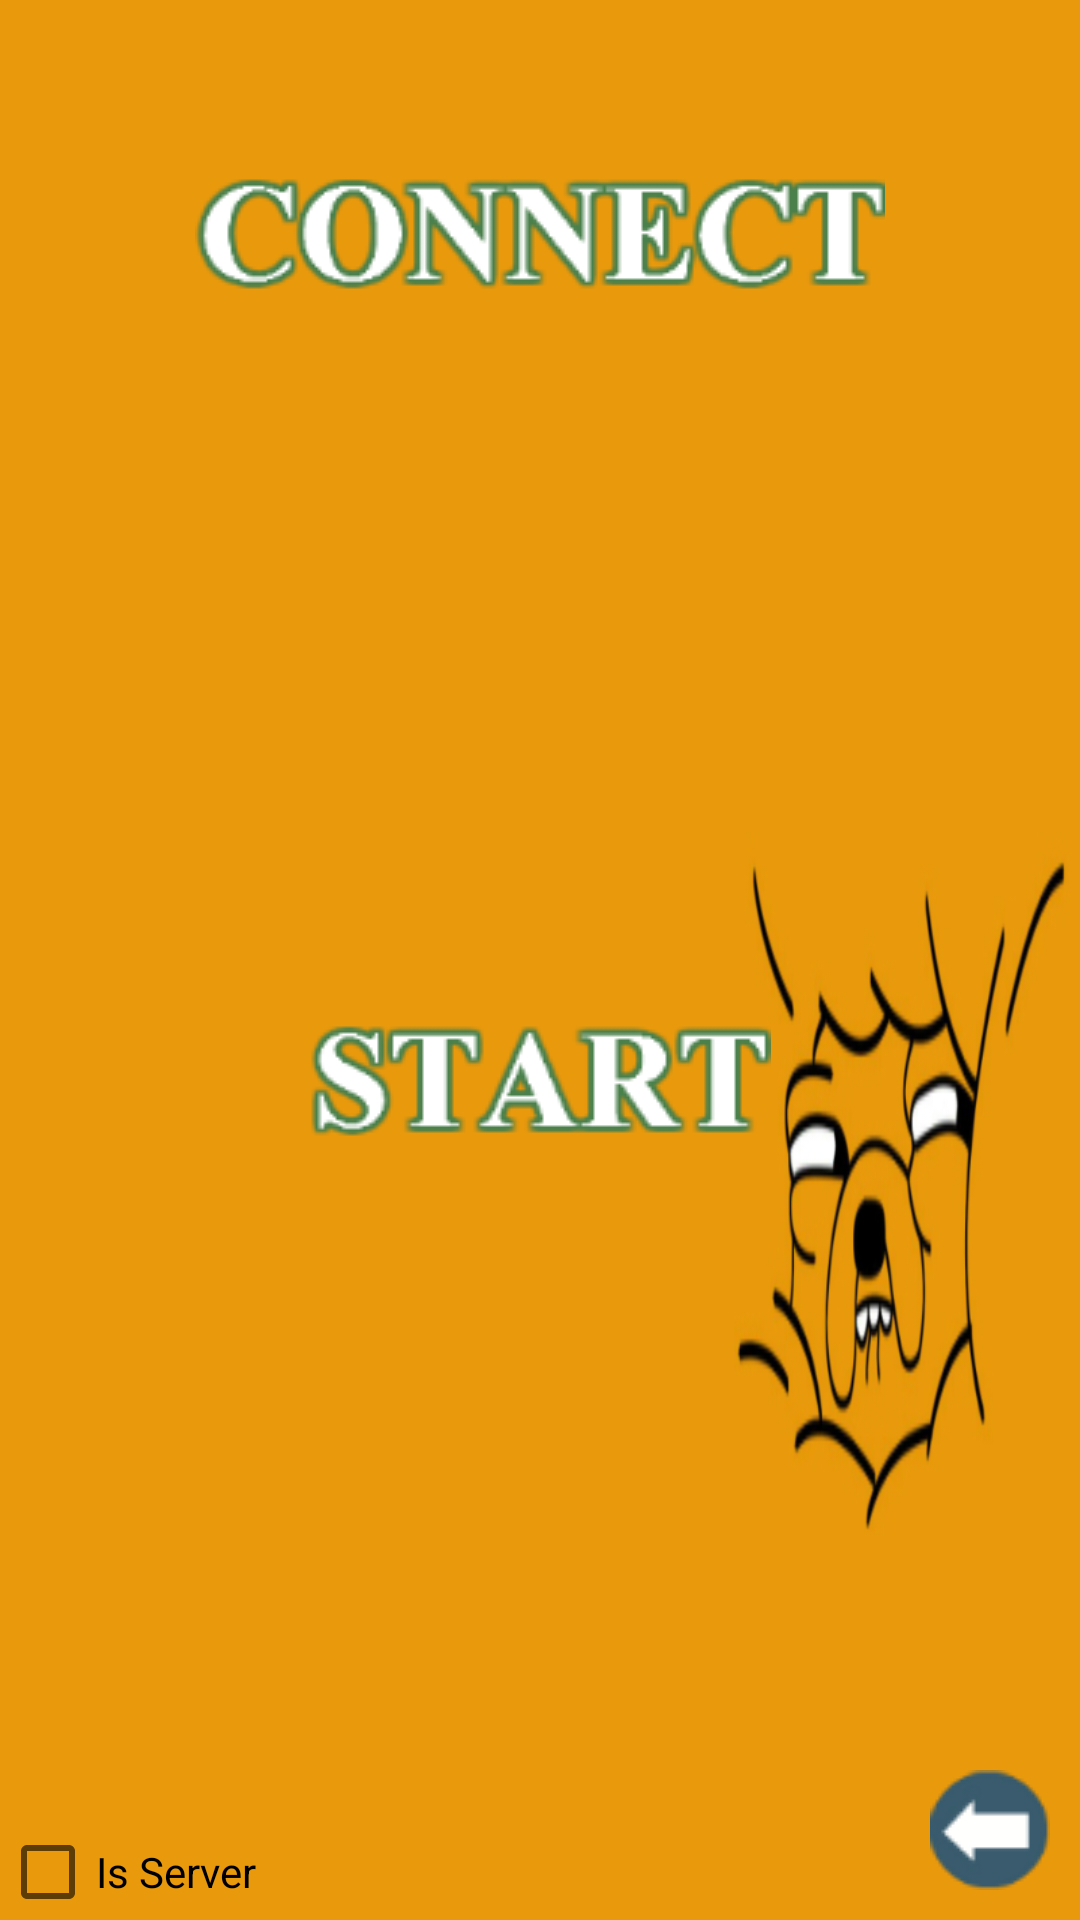

Named icons in this screenshot (1080x1920) and their bounding boxes, rect(x1, y1, x2, y2):
Back for previous activity button: rect(930, 1770, 1050, 1890)
